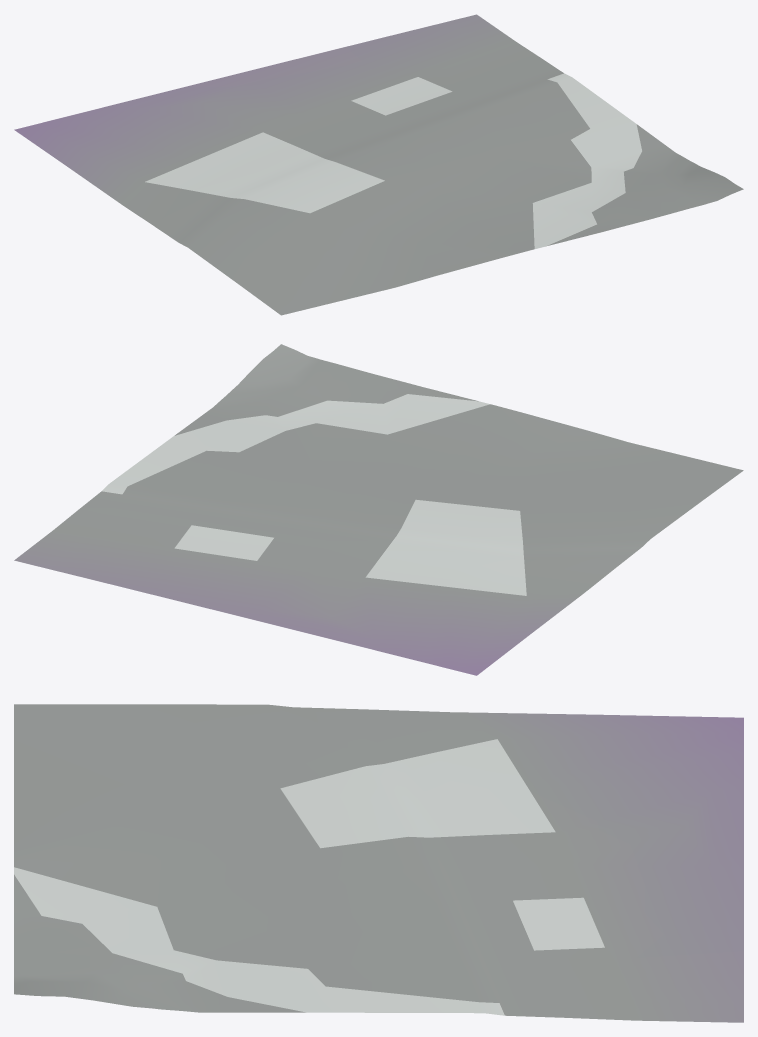
3 renders of one model, top to bottom at view 1: azimuth 30°, elevation 25°; view 2: azimuth 150°, elevation 25°; view 3: azimuth 270°, elevation 25°, orthographic. The views are drawn at different scales.
Parts seen in each view (by area): view 1: G:\FFXIV-MapTools\exports\m5f1\bg\ex4\02_mid_m5\fld\m5f1\bgp (×9); view 2: G:\FFXIV-MapTools\exports\m5f1\bg\ex4\02_mid_m5\fld\m5f1\bgp (×9); view 3: G:\FFXIV-MapTools\exports\m5f1\bg\ex4\02_mid_m5\fld\m5f1\bgp (×9).
Boxes of the visible parts, x1=… form: G:\FFXIV-MapTools\exports\m5f1\bg\ex4\02_mid_m5\fld\m5f1\bgp (×9): x1=14, y1=14, x2=743, y2=315; G:\FFXIV-MapTools\exports\m5f1\bg\ex4\02_mid_m5\fld\m5f1\bgp (×9): x1=14, y1=344, x2=743, y2=675; G:\FFXIV-MapTools\exports\m5f1\bg\ex4\02_mid_m5\fld\m5f1\bgp (×9): x1=14, y1=704, x2=743, y2=1022.
Bounding box in the file's own units: 128 × 6.16 × 128.
